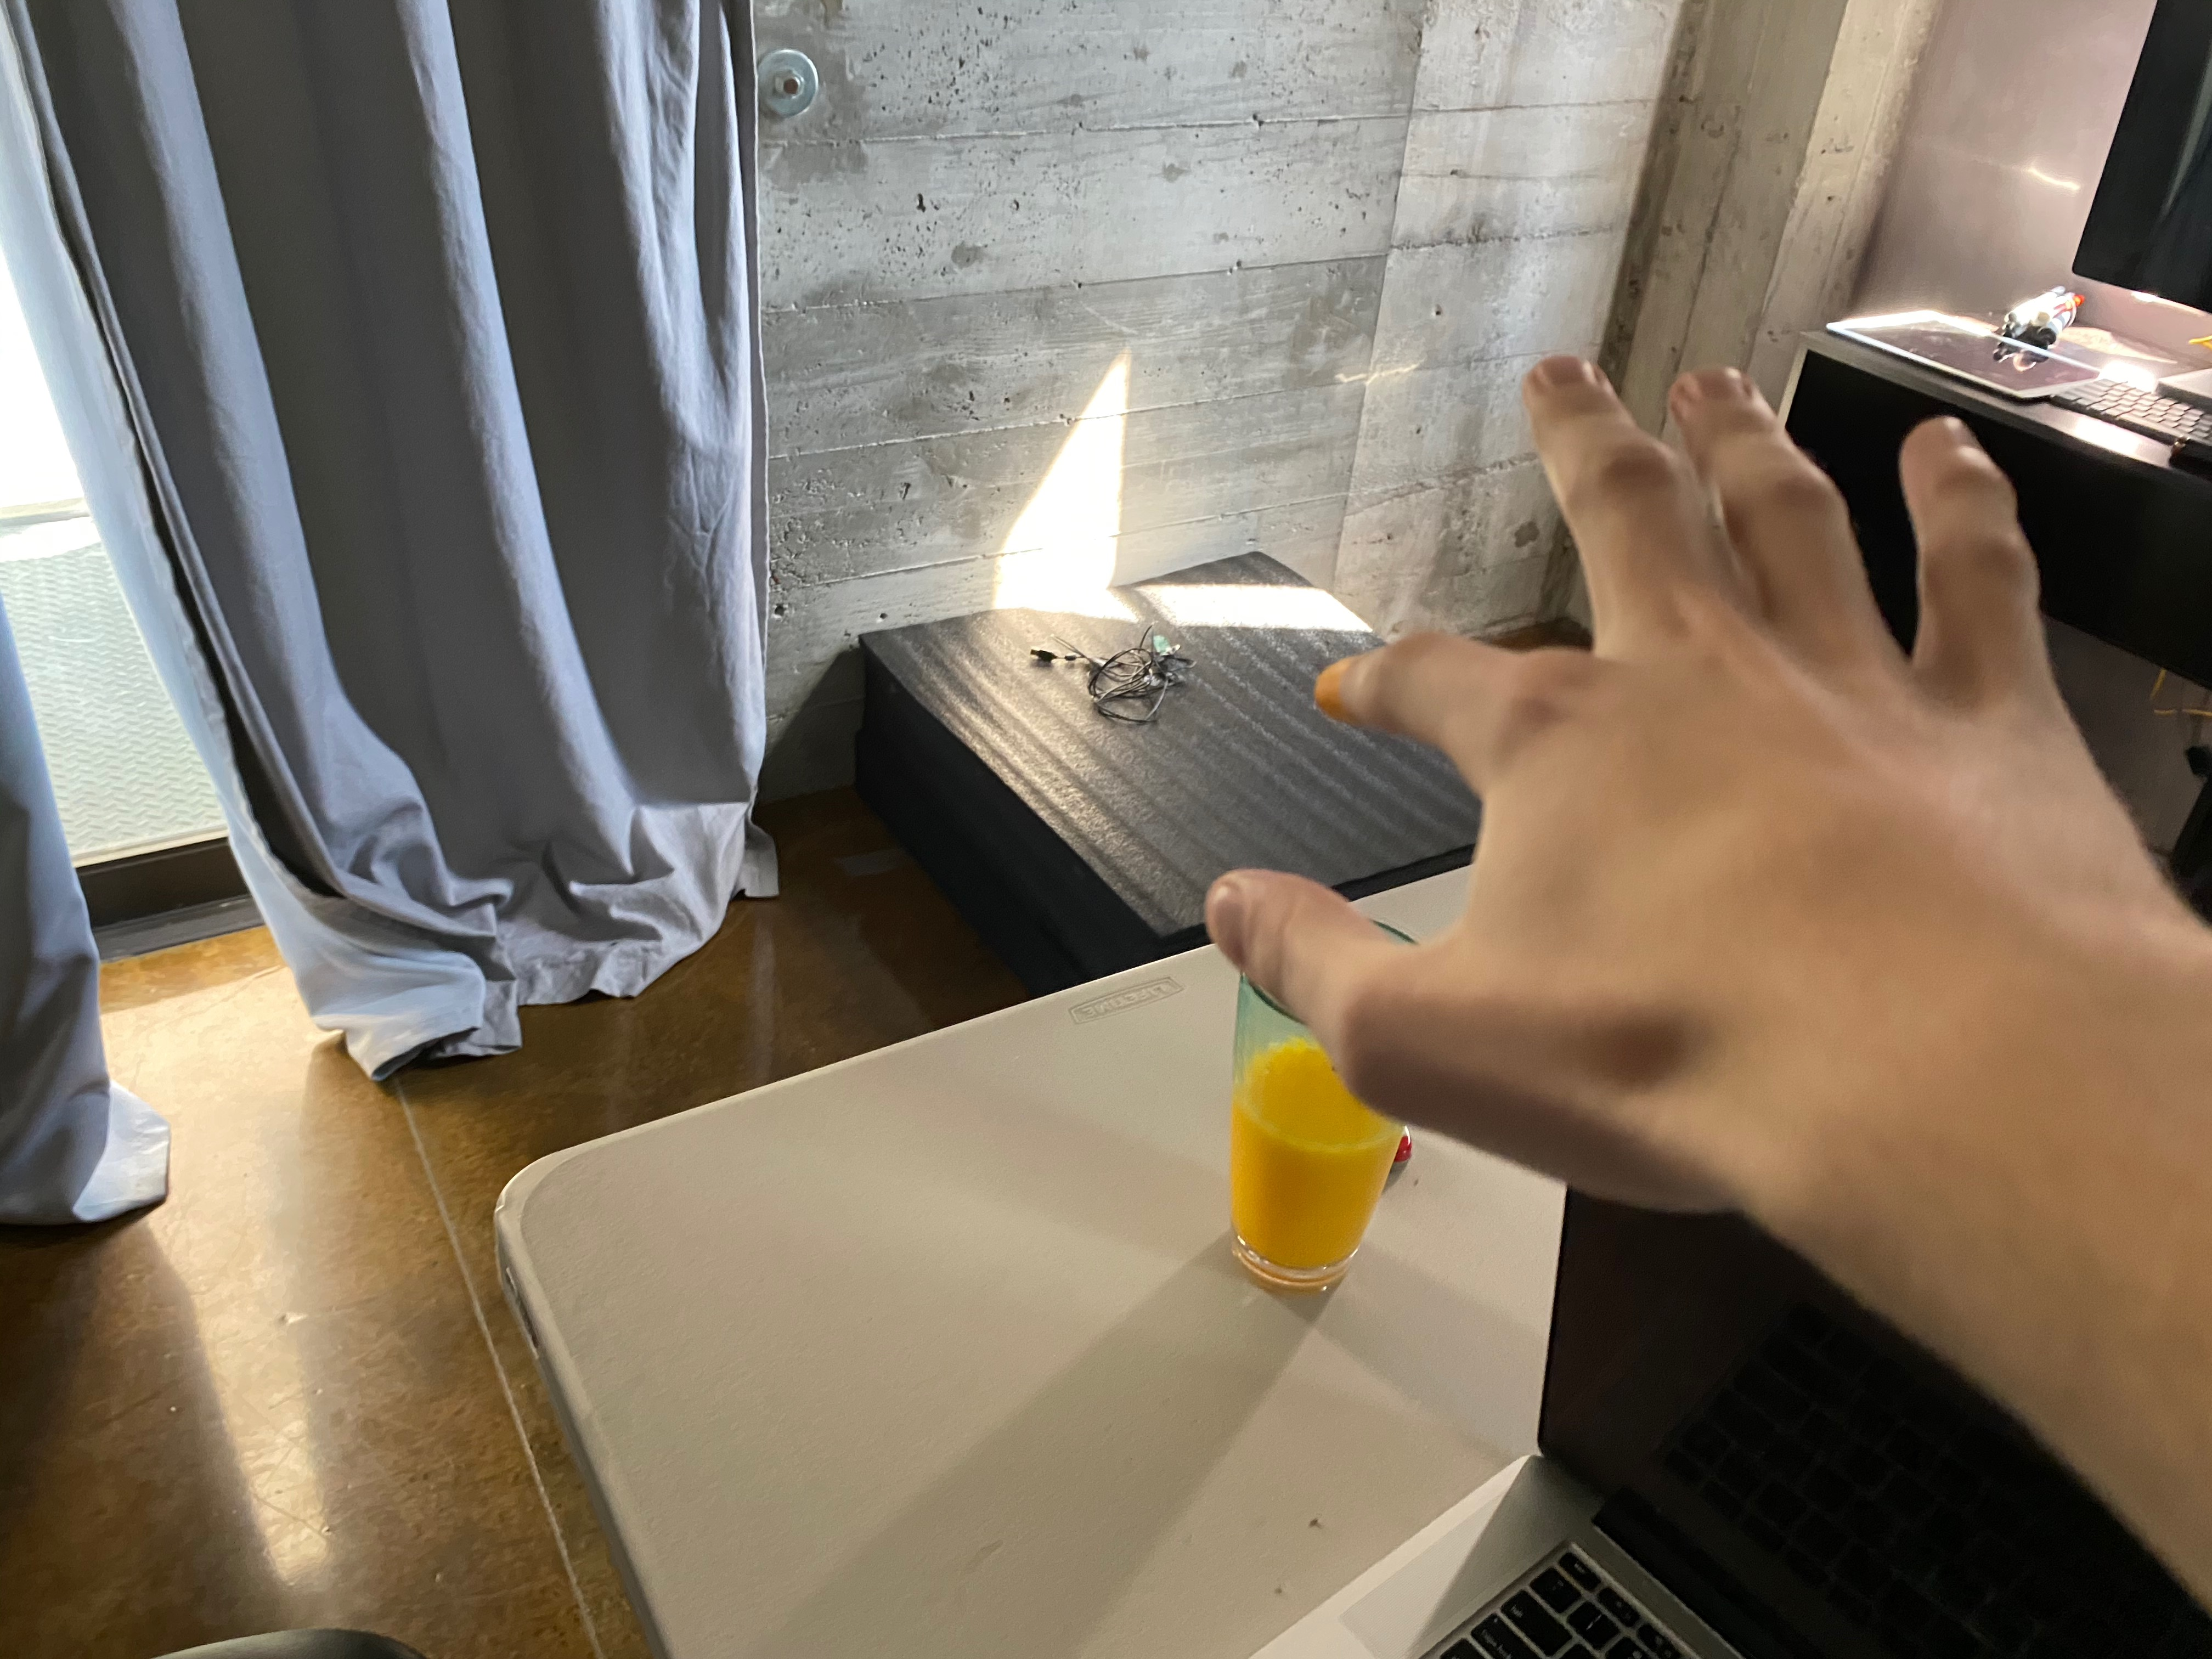fingertip: (1299, 643, 1390, 727)
